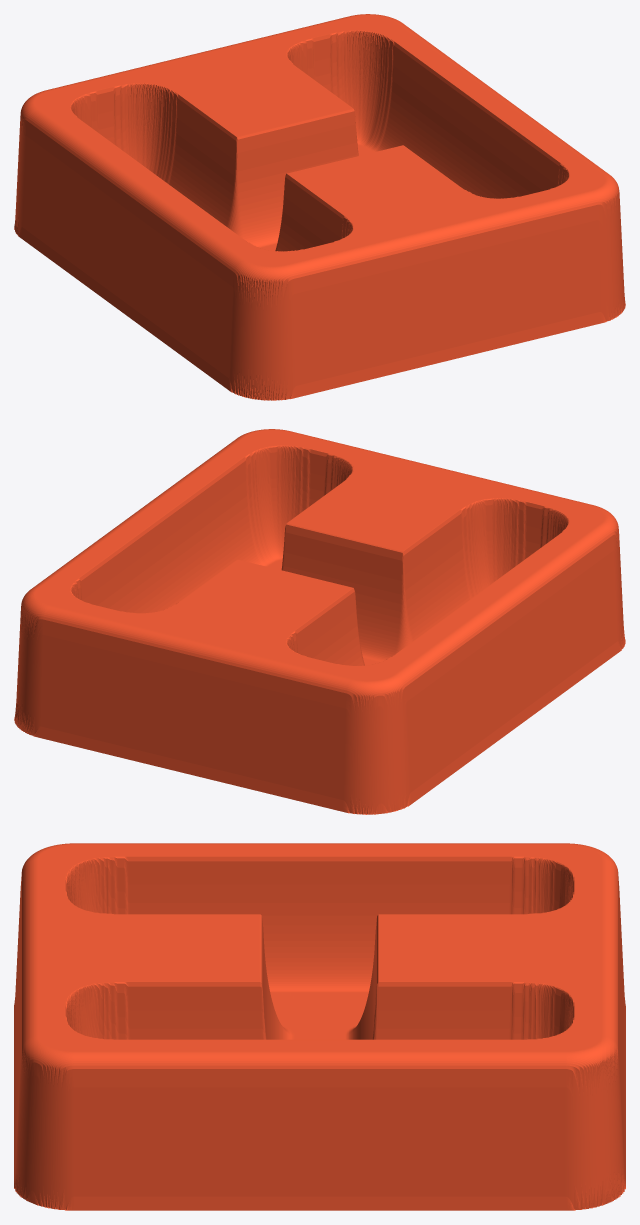
Rendered from mold.glb.
3 views of the same model, one above another, from view 1: azimuth 30°, elevation 25°; view 2: azimuth 150°, elevation 25°; view 3: azimuth 270°, elevation 25° (orthographic). The views are drawn at different scales.
Parts seen in each view (by area): view 1: geometry_0; view 2: geometry_0; view 3: geometry_0.
Boxes of the visible parts, bbox=[...] form: geometry_0: bbox=[14, 14, 625, 400]; geometry_0: bbox=[14, 429, 625, 814]; geometry_0: bbox=[14, 843, 625, 1210].
Size of the model in its own units: 0.081 by 0.0248 by 0.0924.
